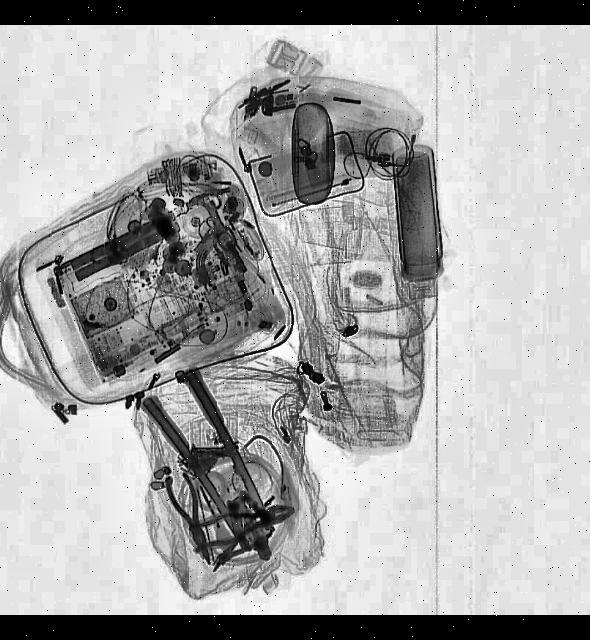Pliers: (186, 496, 298, 556), (160, 468, 224, 568)
